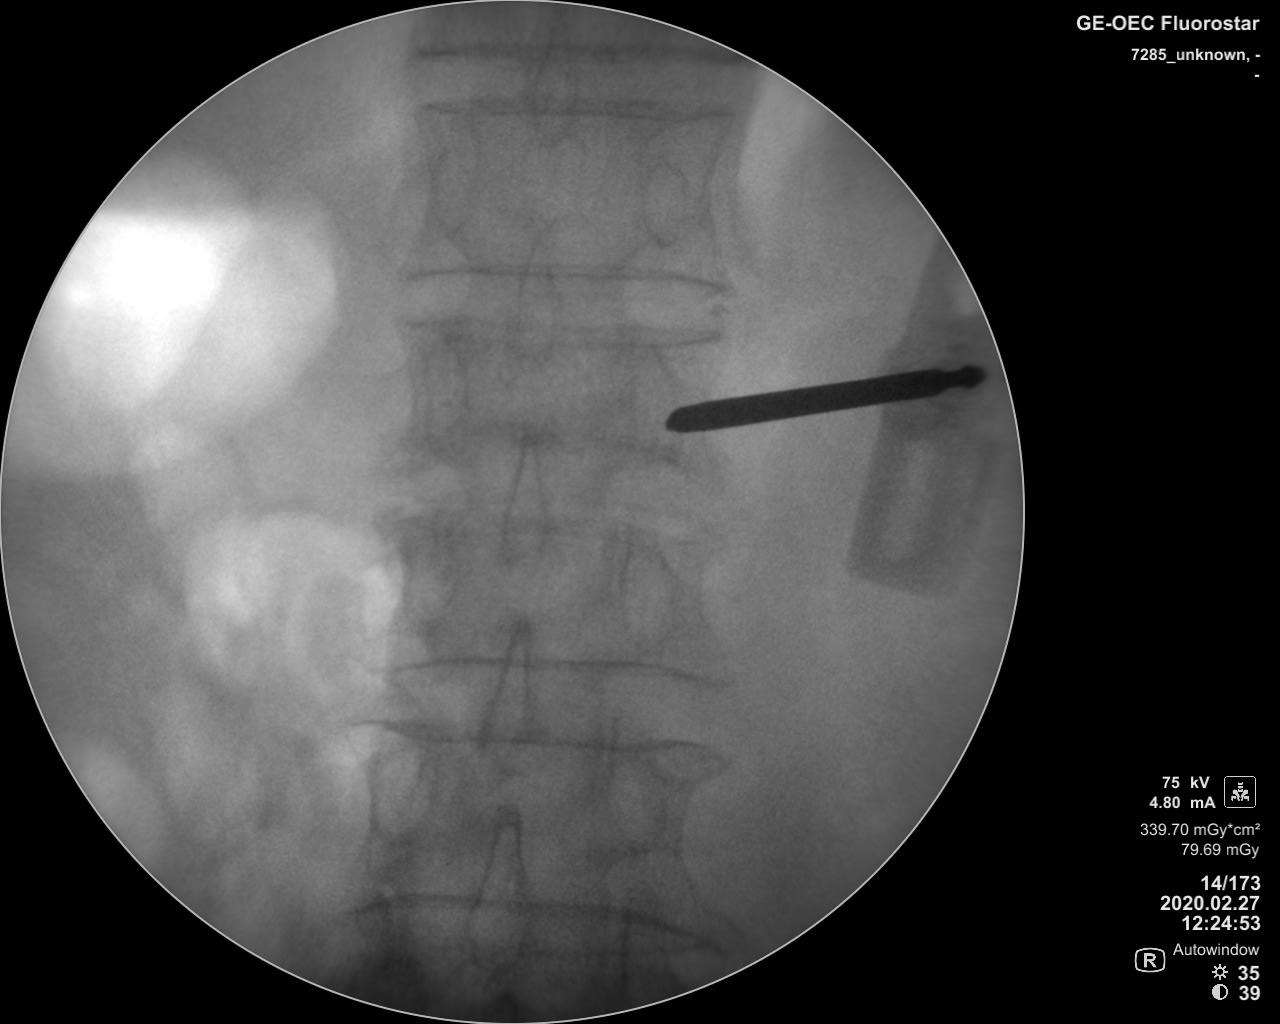eyes: (616, 532, 677, 650), (599, 752, 666, 856), (630, 342, 686, 464), (370, 743, 436, 845), (406, 330, 467, 437), (427, 127, 480, 236), (632, 150, 689, 248), (399, 534, 458, 623)
line: (347, 889, 735, 947), (372, 717, 726, 757), (396, 313, 730, 354), (375, 654, 729, 689), (408, 91, 740, 124), (398, 264, 737, 297), (401, 40, 757, 70)
nose: (460, 793, 533, 976), (474, 612, 537, 762), (498, 411, 550, 569), (507, 228, 563, 360), (523, 18, 581, 146)
